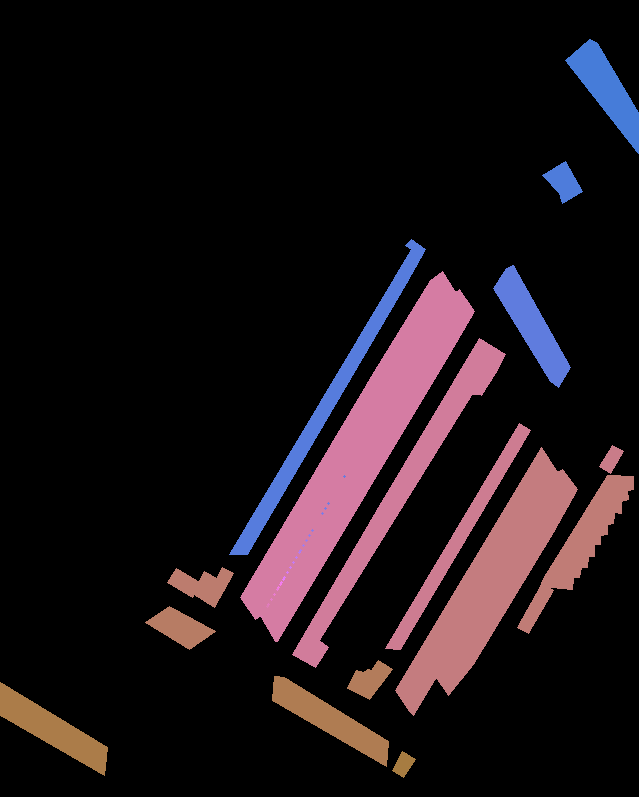parkingspot: (240, 271, 457, 619), (261, 289, 474, 641), (292, 338, 505, 667), (229, 239, 425, 554), (395, 447, 558, 715), (385, 423, 530, 649), (433, 469, 577, 695), (540, 475, 633, 589), (272, 676, 388, 766), (0, 682, 107, 775), (493, 265, 570, 387), (565, 39, 639, 153), (145, 606, 215, 649), (517, 584, 553, 633), (347, 660, 392, 699), (542, 161, 582, 203), (192, 567, 233, 607), (167, 568, 201, 597), (599, 445, 623, 473), (392, 751, 415, 777)
